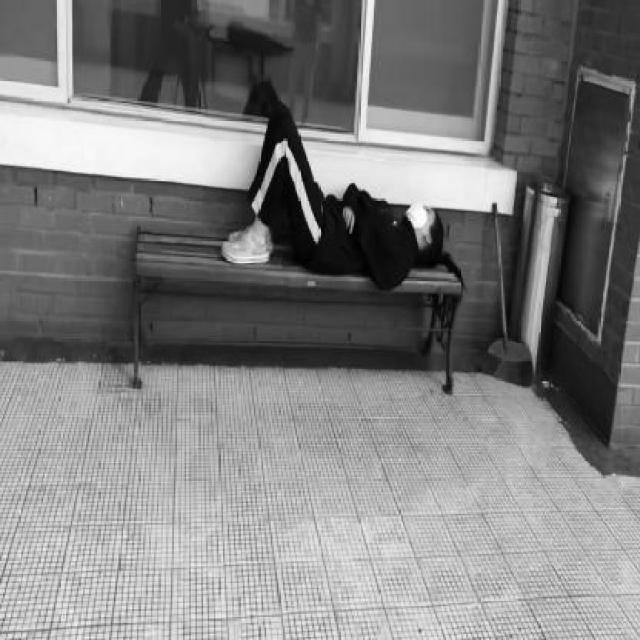person: (219, 104, 444, 284)
